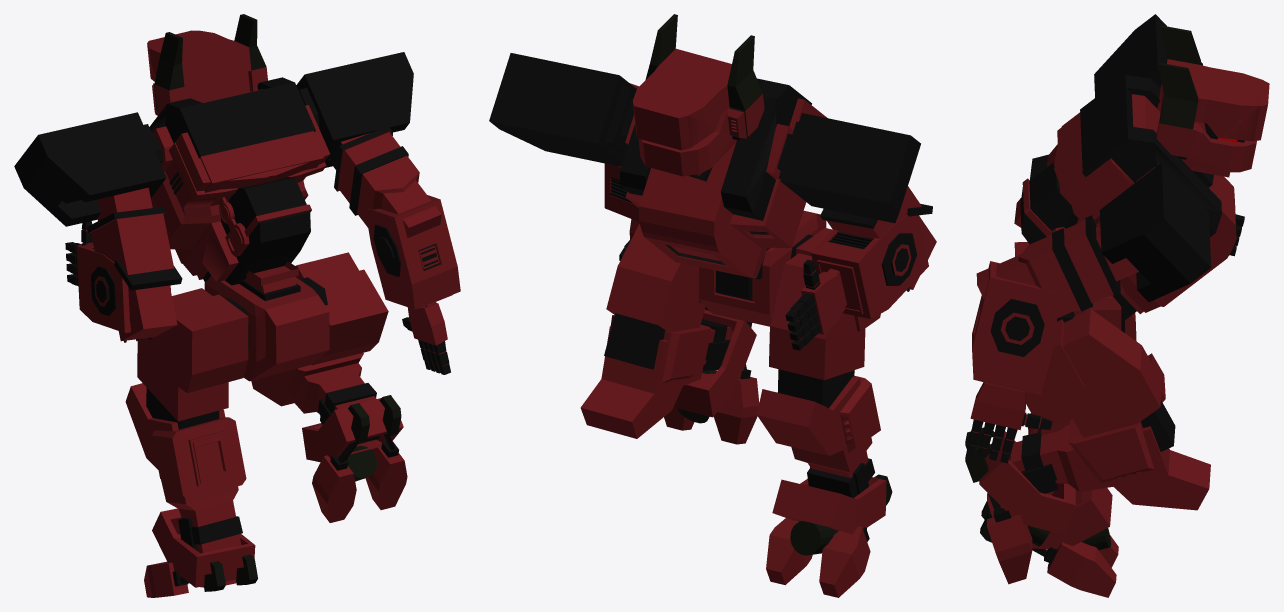
The model's file is walk2.obj.
The picture shows the model from 3 angles, left to right: view 1: azimuth 30°, elevation 25°; view 2: azimuth 150°, elevation 25°; view 3: azimuth 270°, elevation 25°; orthographic projection. The views are drawn at different scales.
Visible parts, largest first — view 1: R_UpperShoulder_Cube.030; view 2: R_UpperShoulder_Cube.030; view 3: R_UpperShoulder_Cube.030.
Boxes of the visible parts, x1,y1,x2,y2 form: R_UpperShoulder_Cube.030: (14, 14, 460, 597); R_UpperShoulder_Cube.030: (489, 14, 936, 597); R_UpperShoulder_Cube.030: (965, 14, 1269, 597).
Size of the model in its own units: 1.42 by 1.94 by 0.9405.
